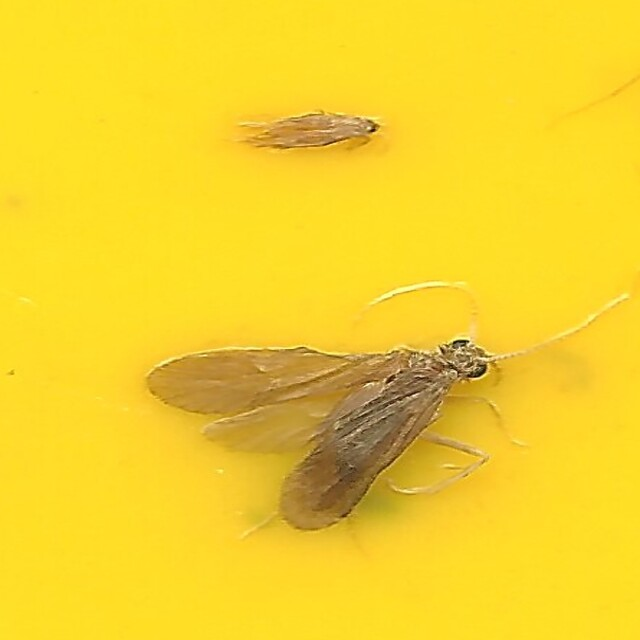Trichoptera: (144, 343, 496, 534), (243, 106, 384, 157)
